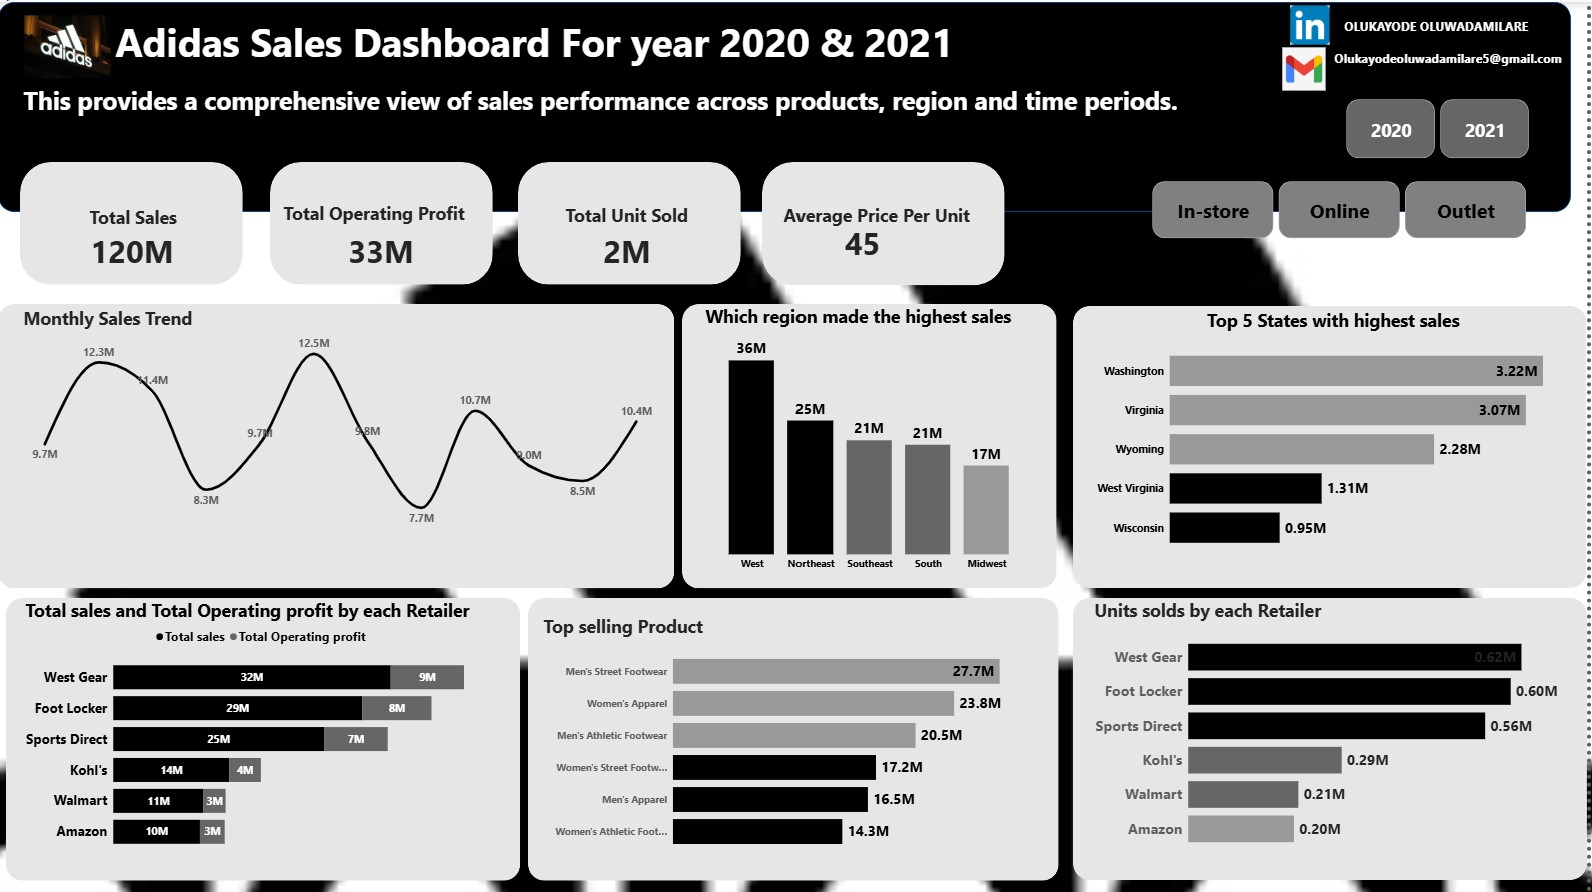

The dashboard page shown, as its layout file describes it:
{"tool":"powerbi","page":{"name":"ADIDAS DASHBOARD","canvas":[2400,1400],"ordinal":3},"visuals":[{"type":"shape","box":[0,0,2376.7,317.5],"z":0},{"type":"image","box":[57.5,18.1,145.1,105.8],"z":1000},{"type":"textbox","box":[171.1,15.6,2227.6,108.9],"z":2000},{"type":"textbox","box":[33.3,117.9,2367.6,78.6],"z":3000},{"type":"advancedSlicerVisual","fields":{"Values":["Calender.Year"]},"box":[2032,142.1,287.3,99.8],"z":4000},{"type":"advancedSlicerVisual","fields":{"Values":["Sheet1.Sales Method"]},"box":[1738.7,266.1,577.5,96.8],"z":5000},{"type":"shape","box":[34.6,241.9,336.9,185.7],"z":6000},{"type":"shape","box":[1154.6,241,365.4,186.6],"z":7000},{"type":"shape","box":[786.2,241.9,336.9,185.7],"z":8000},{"type":"shape","box":[410.4,241.9,336.9,185.7],"z":9000},{"type":"card","fields":{"Values":["Calender.Total sales"]},"box":[33.3,317.5,211.7,72.6],"z":10000},{"type":"card","fields":{"Values":["Calender.Total Operating profit"]},"box":[426.3,278.2,196.5,151.2],"z":11000},{"type":"textbox","box":[99.8,247.9,205.6,69.5],"z":12000},{"type":"textbox","box":[426.3,251,335.6,66.5],"z":13000},{"type":"card","fields":{"Values":["Calender.Total unit sold"]},"box":[771.1,293.3,263.1,127],"z":14000},{"type":"textbox","box":[849.7,251,338.7,81.6],"z":15000},{"type":"card","fields":{"Values":["Calender.Average price per unit"]},"box":[1218.6,293.3,163.3,117.9],"z":16000},{"type":"textbox","box":[1182.3,247.9,338.7,72.6],"z":17000},{"type":"shape","box":[0,457.5,1022.5,430],"z":18000},{"type":"lineChart","title":"Monthly Sales Trend","fields":{"Y":["Sum(Sheet1.Total Sales)"],"Category":["Calender.Month"]},"box":[33.7,458.7,969.3,344.7],"z":19000},{"type":"shape","box":[1035,457.5,565,430],"z":20000},{"type":"shape","box":[11.7,901.9,777.5,427.6],"z":21000},{"type":"shape","box":[800.9,901.9,800.9,427.6],"z":22000},{"type":"barChart","title":"Total sales and Total Operating profit by each Retailer","fields":{"Category":["Sheet1.Retailer"],"Y":["Calender.Grand total sales","Calender.Total operating profit"]},"box":[35,901.9,727,396.5],"z":23000},{"type":"barChart","title":"Top selling Product","fields":{"Category":["Sheet1.Product"],"Y":["Calender.Grand total sales"]},"box":[820.3,925.3,750.3,373.2],"z":24000},{"type":"columnChart","title":"Which region made the highest sales","fields":{"Category":["Sheet1.Region"],"Y":["Sum(Sheet1.Total Sales)"]},"box":[1065,457.5,505,412.5],"z":25000},{"type":"shape","box":[1623.8,901.1,777.1,426.3],"z":26000},{"type":"shape","box":[1623.5,458.8,776.5,426.5],"z":27000},{"type":"barChart","title":"Top 5 States with highest sales","fields":{"Y":["Calender.Total sales"],"Category":["Sheet1.State"]},"box":[1652.9,461.8,726.5,385.3],"z":28000},{"type":"barChart","title":"Units solds by each Retailer","fields":{"Y":["Sum(Sheet1.Units Sold)"],"Category":["Sheet1.Retailer"]},"box":[1651,901.1,725.7,396.1],"z":29000},{"type":"image","box":[1932.2,0,99.8,69.5],"z":30000},{"type":"textbox","box":[2028.9,18.1,302.4,39.3],"z":31000},{"type":"image","box":[1932.2,63.5,81.6,75.6],"z":32000},{"type":"textbox","box":[2013.8,66.5,362.9,57.5],"z":33000},{"type":"card","fields":{"Values":["Calender.YOY SALES"]},"box":[172.4,281.2,202.6,166.3],"z":34000},{"type":"card","fields":{"Values":["Calender.YOY profit"]},"box":[589.6,284.2,157.2,160.3],"z":35000},{"type":"card","fields":{"Values":["Calender.YOY PRICE"]},"box":[1336.5,266.1,154.2,181.4],"z":36000},{"type":"card","fields":{"Values":["Calender.YOY UNIT SOLD"]},"box":[955.5,281.2,157.2,157.2],"z":37000}]}

Visuals, with their boxes on the page's 2400x1400 design canvas (x1, y1, x2, y2). These are canvas units, not pixel positions in the 1592x892 screenshot, which may show the page scaled, cropped or inside an application window:
shape: [0, 0, 2377, 318]
image: [58, 18, 203, 124]
textbox: [171, 16, 2399, 124]
textbox: [33, 118, 2401, 196]
advancedSlicerVisual - Calender.Year: [2032, 142, 2319, 242]
advancedSlicerVisual - Sheet1.Sales Method: [1739, 266, 2316, 363]
shape: [35, 242, 372, 428]
shape: [1155, 241, 1520, 428]
shape: [786, 242, 1123, 428]
shape: [410, 242, 747, 428]
card - Calender.Total sales: [33, 318, 245, 390]
card - Calender.Total Operating profit: [426, 278, 623, 429]
textbox: [100, 248, 305, 317]
textbox: [426, 251, 762, 318]
card - Calender.Total unit sold: [771, 293, 1034, 420]
textbox: [850, 251, 1188, 333]
card - Calender.Average price per unit: [1219, 293, 1382, 411]
textbox: [1182, 248, 1521, 320]
shape: [0, 458, 1022, 888]
"Monthly Sales Trend" lineChart: [34, 459, 1003, 803]
shape: [1035, 458, 1600, 888]
shape: [12, 902, 789, 1330]
shape: [801, 902, 1602, 1330]
"Total sales and Total Operating profit by each Retailer" barChart: [35, 902, 762, 1298]
"Top selling Product" barChart: [820, 925, 1571, 1298]
"Which region made the highest sales" columnChart: [1065, 458, 1570, 870]
shape: [1624, 901, 2401, 1327]
shape: [1624, 459, 2400, 885]
"Top 5 States with highest sales" barChart: [1653, 462, 2379, 847]
"Units solds by each Retailer" barChart: [1651, 901, 2377, 1297]
image: [1932, 0, 2032, 70]
textbox: [2029, 18, 2331, 57]
image: [1932, 64, 2014, 139]
textbox: [2014, 66, 2377, 124]
card - Calender.YOY SALES: [172, 281, 375, 448]
card - Calender.YOY profit: [590, 284, 747, 444]
card - Calender.YOY PRICE: [1336, 266, 1491, 448]
card - Calender.YOY UNIT SOLD: [956, 281, 1113, 438]
